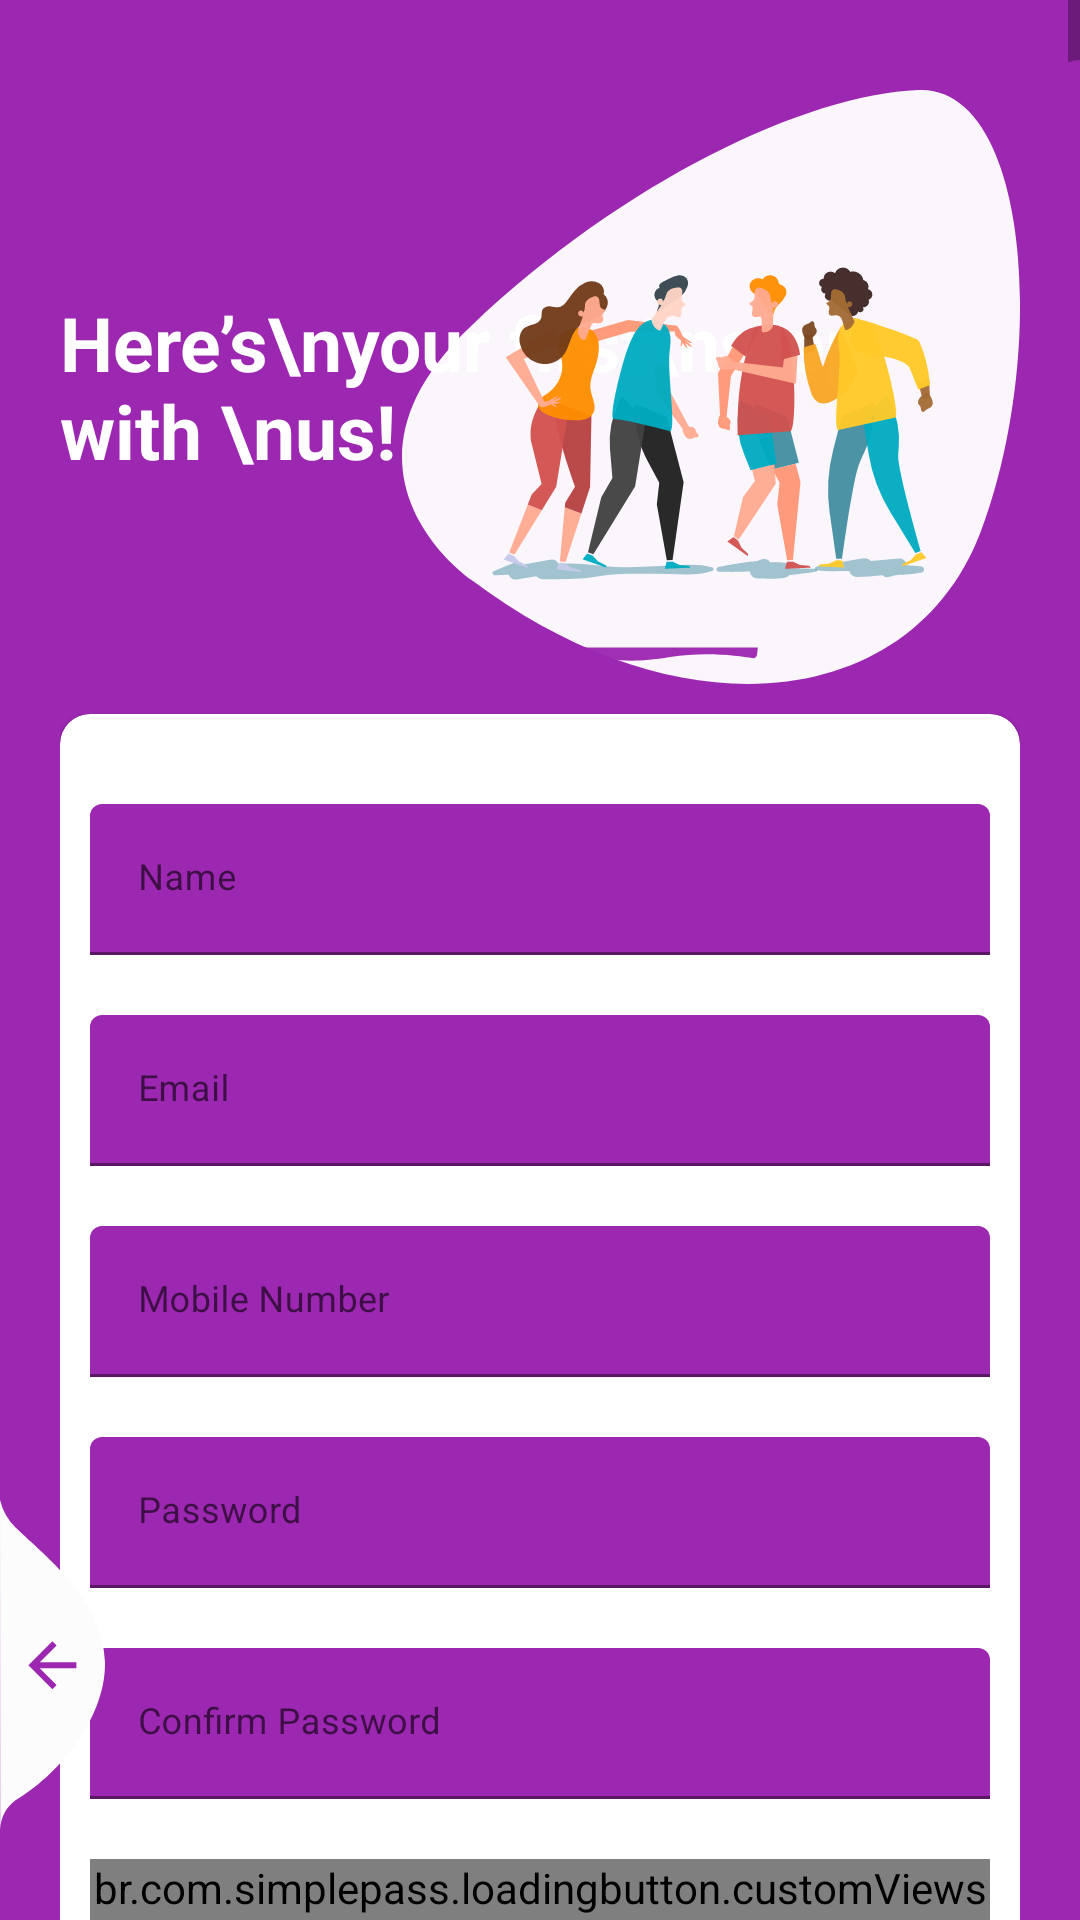

Where to tap for icons on this 1080x1920 app screen, as point (x, y):
back: point (52, 1665)
